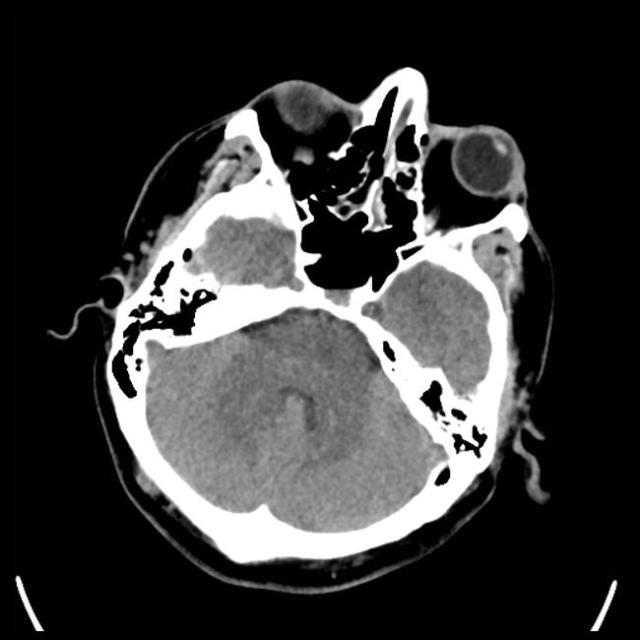lesion: (78, 66, 553, 589)
